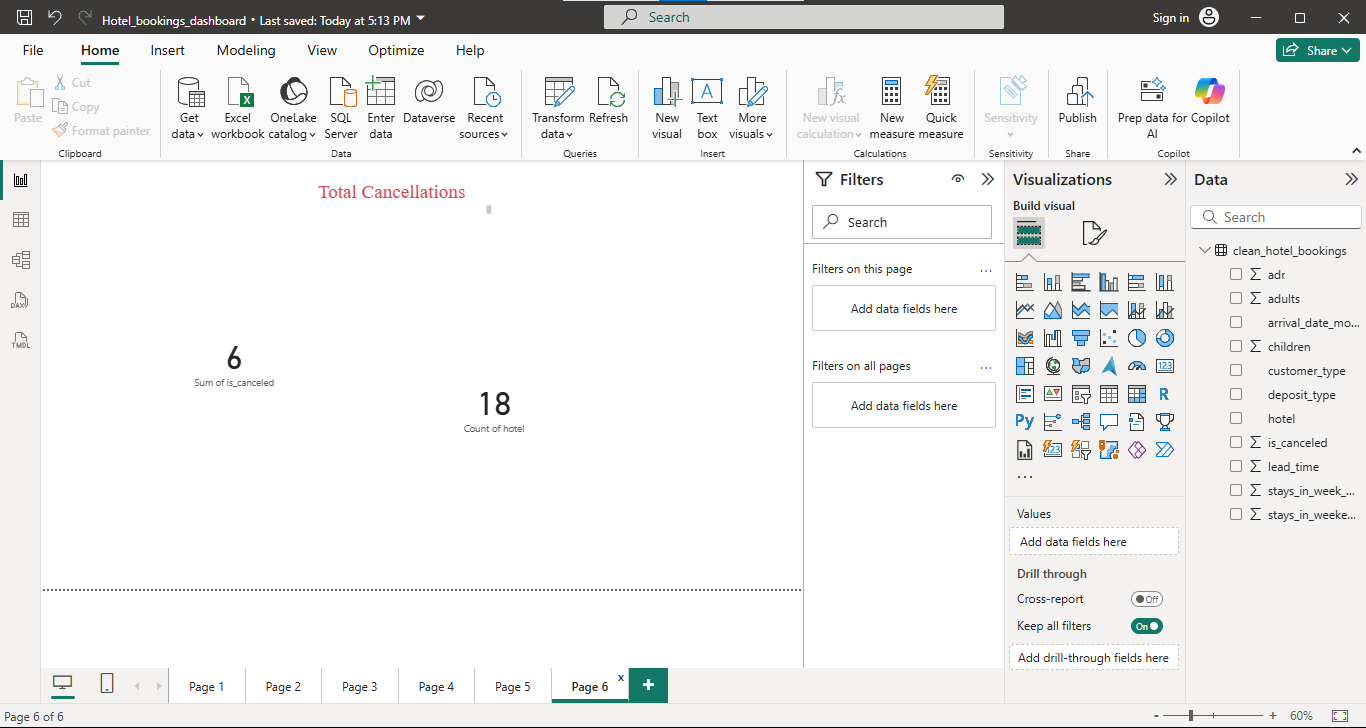

The page's visual inventory and layout, read from the dashboard file:
{"tool":"powerbi","page":{"name":"Page 6","canvas":[1280,720],"ordinal":5},"visuals":[{"type":"card","fields":{"Values":["Sum(clean_hotel_bookings.is_canceled)"]},"box":[157.9,183.1,332.6,305.7],"z":0},{"type":"card","fields":{"Values":["CountNonNull(clean_hotel_bookings.hotel)"]},"box":[594.6,268.8,332.6,288.9],"z":1},{"type":"textbox","title":"Total Cancellations","box":[460.3,35.3,300.7,60.5],"z":2}]}

Visuals, with their boxes on the page's 1280x720 design canvas (x1, y1, x2, y2). These are canvas units, not pixel positions in the 1366x728 screenshot, which may show the page scaled, cropped or inside an application window:
card - Sum(clean_hotel_bookings.is_canceled): rect(158, 183, 490, 489)
card - CountNonNull(clean_hotel_bookings.hotel): rect(595, 269, 927, 558)
"Total Cancellations" textbox: rect(460, 35, 761, 96)
